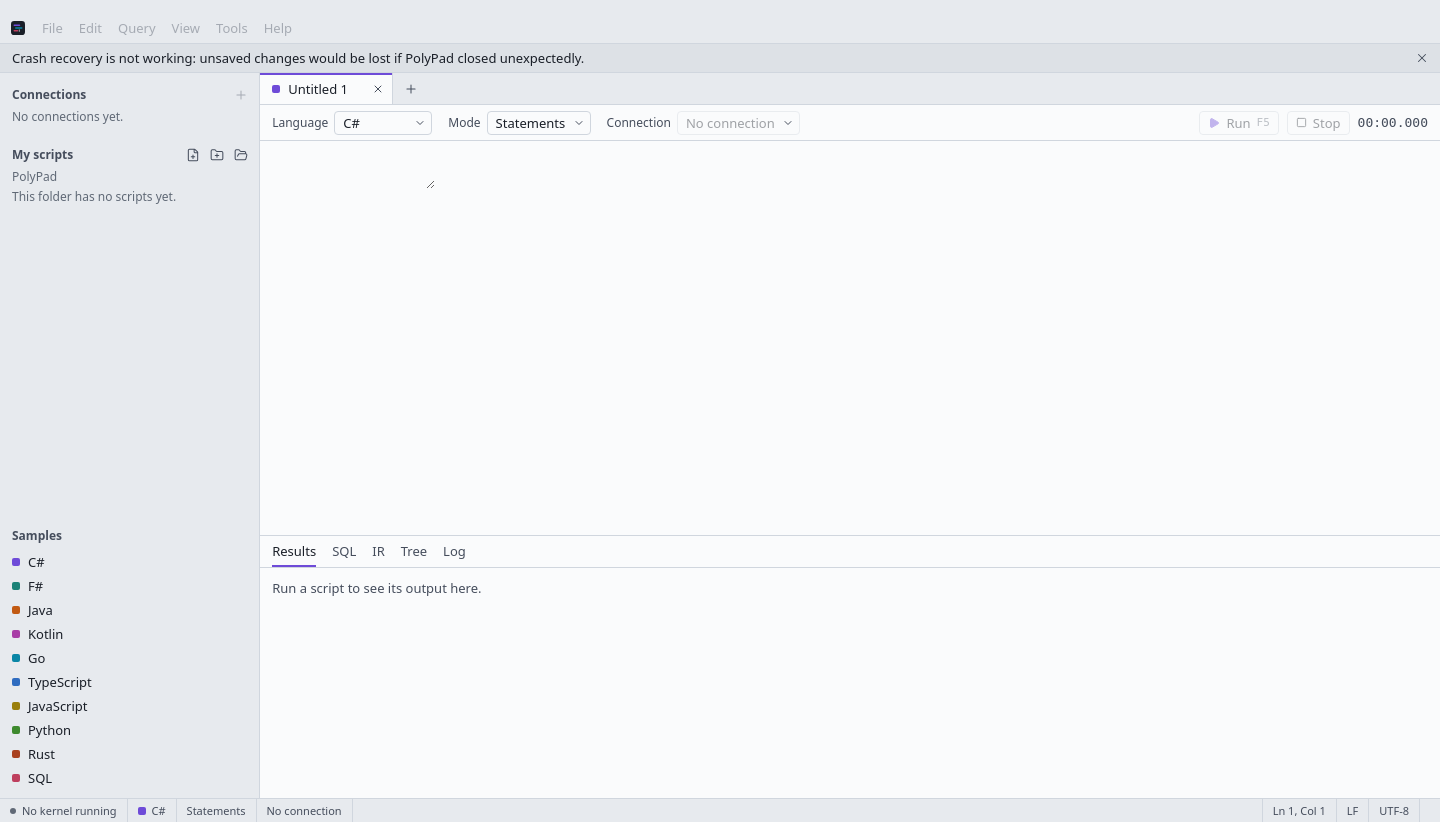
Test: starting up › warns that unsaved work is not protected when recovery is unavailable
Step 1. Clear the text box named "Editor text" → point(348, 169), box [260, 149, 435, 189]
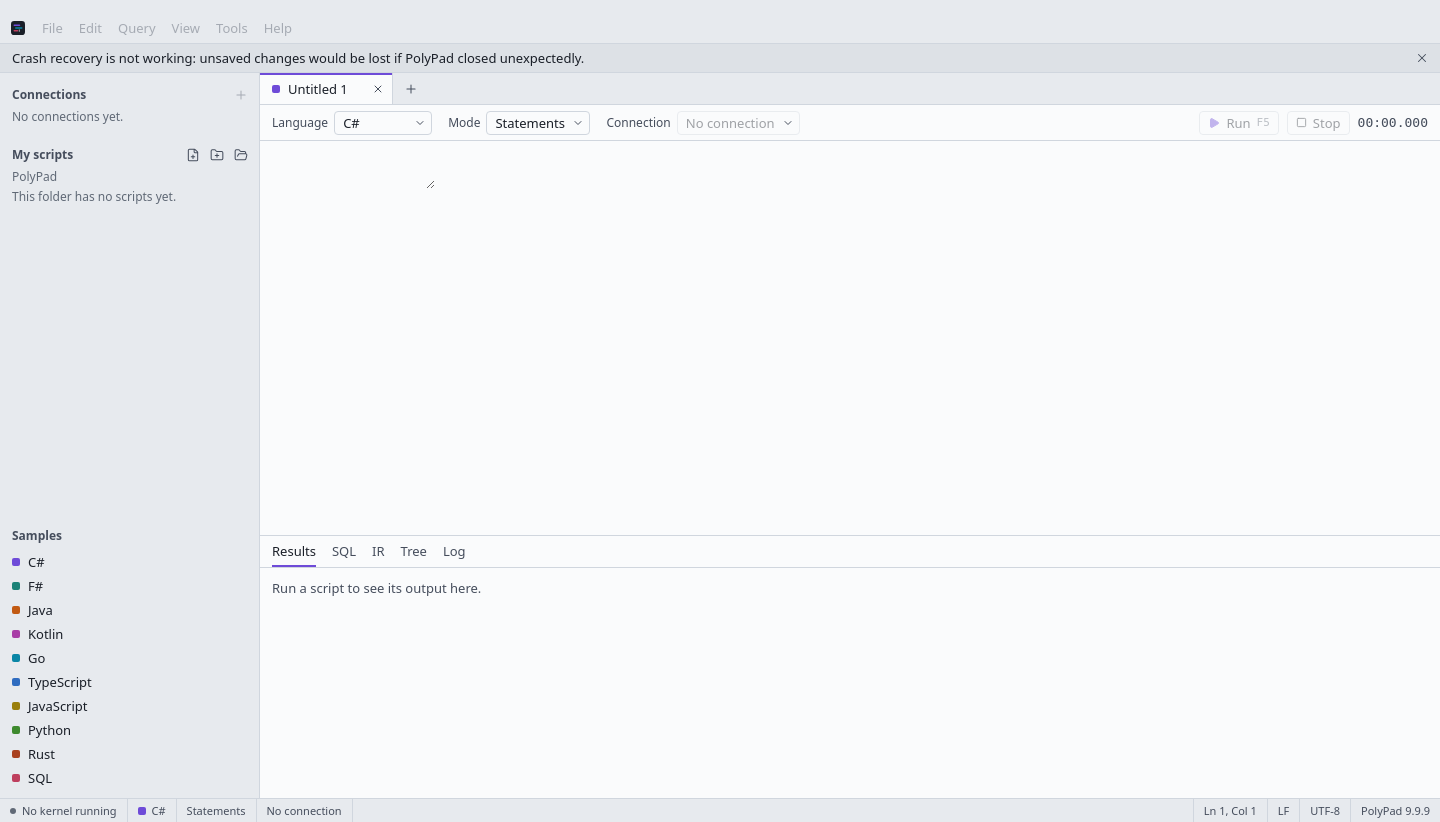
Expected: the element named "Open scripts" is shown, [260, 73, 393, 104]
Expected: the text "Crash recovery is not working" is shown, [12, 49, 584, 67]
Step 2. Click the button named "Dismiss" → point(1422, 58), box [1410, 46, 1434, 70]
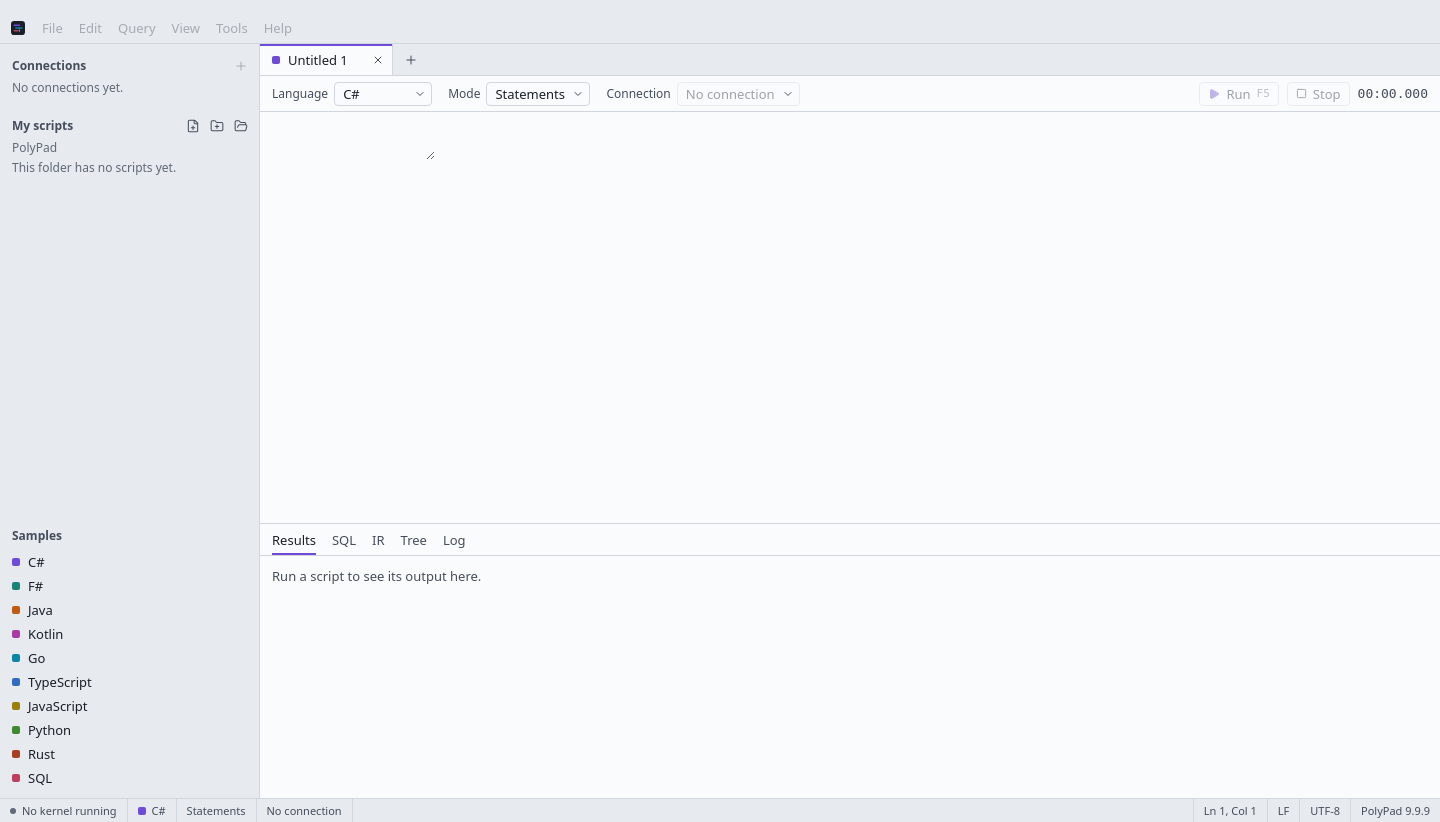
Result: the text "Crash recovery is not working" is gone
